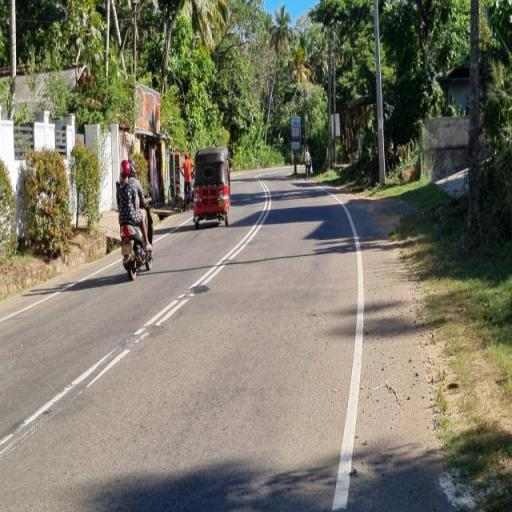double_white_line: (130, 182, 272, 342), (0, 328, 133, 454)
